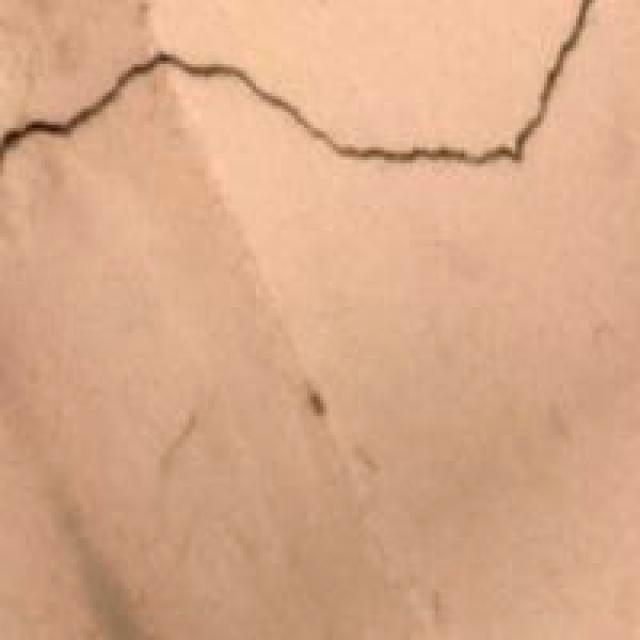crack: (0, 0, 608, 196)
